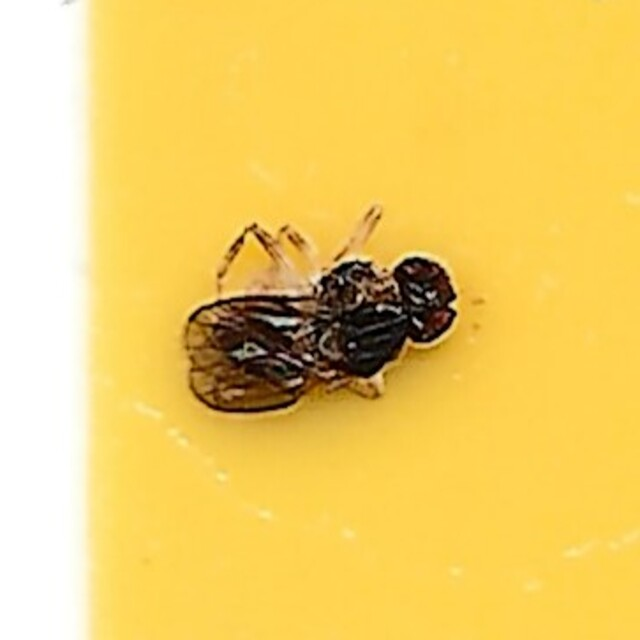Brachycera: (176, 213, 464, 427)
